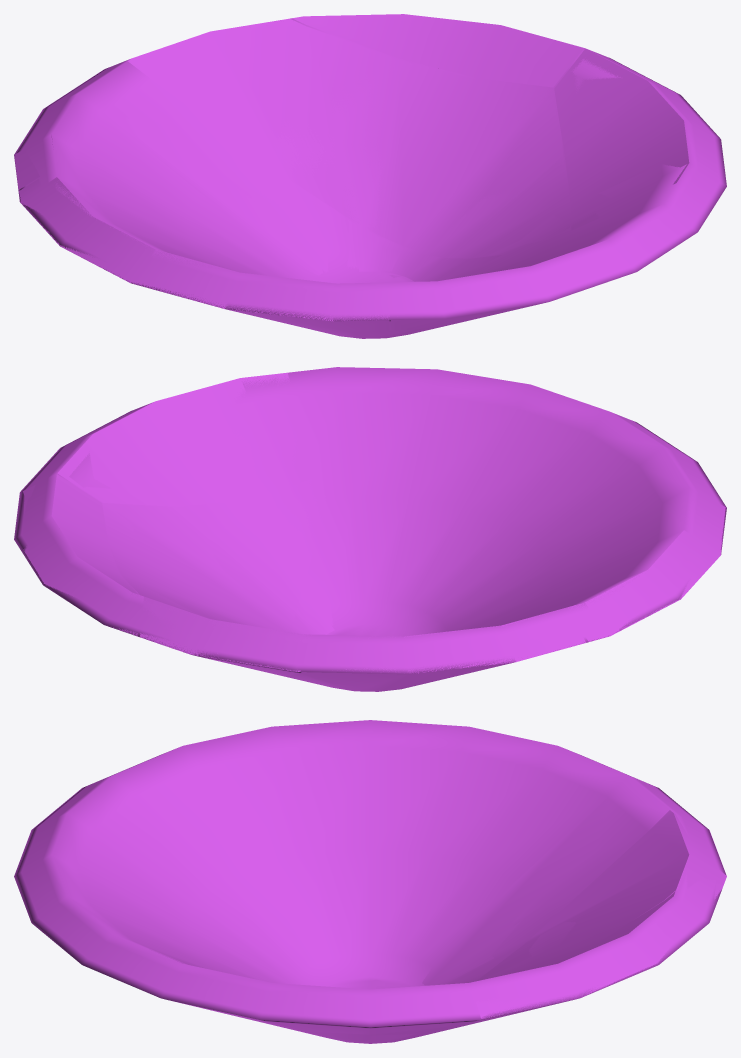
Rendered from Fruit bowl.fbx.
3 views of the same model, one above another, from view 1: azimuth 30°, elevation 25°; view 2: azimuth 150°, elevation 25°; view 3: azimuth 270°, elevation 25° (orthographic).
Visible parts, largest first — view 1: Fruit_Bowl, Fruit_Bowl_cell.005, Fruit_Bowl_cell.002, Fruit_Bowl_cell, Fruit_Bowl_cell.003, Fruit_Bowl_cell.004, Fruit_Bowl_cell.001; view 2: Fruit_Bowl, Fruit_Bowl_cell.002, Fruit_Bowl_cell.005, Fruit_Bowl_cell, Fruit_Bowl_cell.004, Fruit_Bowl_cell.003; view 3: Fruit_Bowl, Fruit_Bowl_cell.005, Fruit_Bowl_cell, Fruit_Bowl_cell.003.
Part boxes in pixels (x1,y1,x2,y2): Fruit_Bowl: [14, 18, 726, 331]; Fruit_Bowl_cell.005: [128, 18, 569, 255]; Fruit_Bowl_cell.002: [554, 48, 689, 230]; Fruit_Bowl_cell: [15, 109, 501, 338]; Fruit_Bowl_cell.003: [292, 14, 583, 87]; Fruit_Bowl_cell.004: [19, 177, 389, 331]; Fruit_Bowl_cell.001: [391, 302, 546, 330]; Fruit_Bowl: [14, 367, 726, 691]; Fruit_Bowl_cell.002: [57, 372, 315, 506]; Fruit_Bowl_cell.005: [110, 481, 325, 671]; Fruit_Bowl_cell: [285, 555, 586, 691]; Fruit_Bowl_cell.004: [568, 502, 725, 641]; Fruit_Bowl_cell.003: [23, 474, 140, 636]; Fruit_Bowl: [14, 720, 726, 1043]; Fruit_Bowl_cell.005: [253, 810, 726, 1041]; Fruit_Bowl_cell: [288, 797, 611, 1042]; Fruit_Bowl_cell.003: [475, 891, 713, 1018].
Size of the model in its own units: 83.63 by 20.38 by 83.63.
